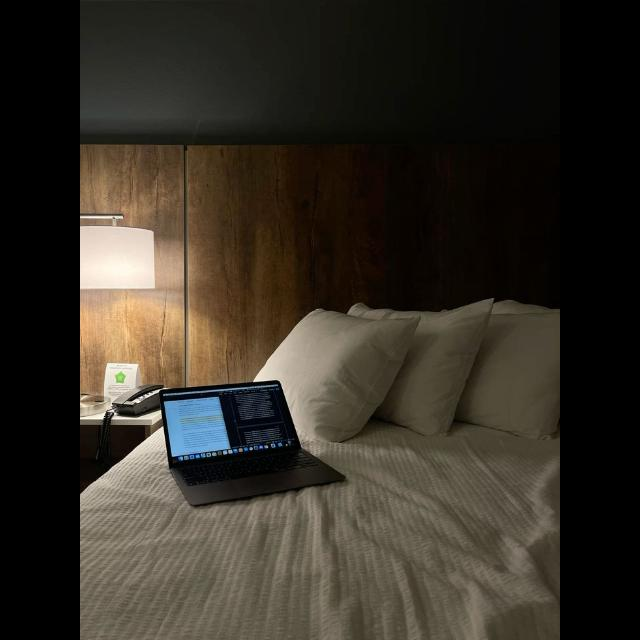laptop: (160, 379, 344, 505)
